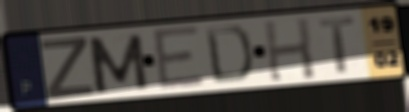D: (202, 23, 255, 85)
E: (149, 24, 208, 94)
H: (261, 16, 318, 84)
M: (84, 32, 152, 96)
T: (316, 14, 358, 75)
Z: (38, 36, 96, 101)
